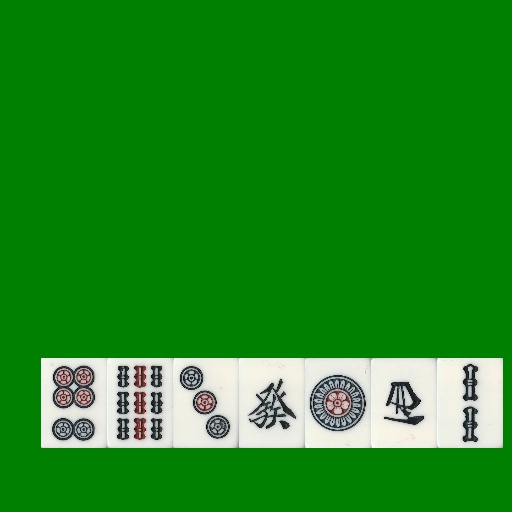1p: (305, 358, 371, 448)
2s: (437, 358, 503, 448)
3p: (173, 358, 239, 448)
6p: (41, 358, 107, 448)
9s: (107, 358, 173, 448)
hatsu: (239, 358, 305, 448)
west: (371, 358, 437, 448)
